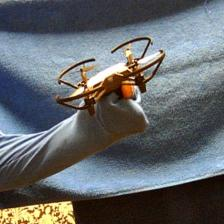drone: (54, 35, 166, 112)
